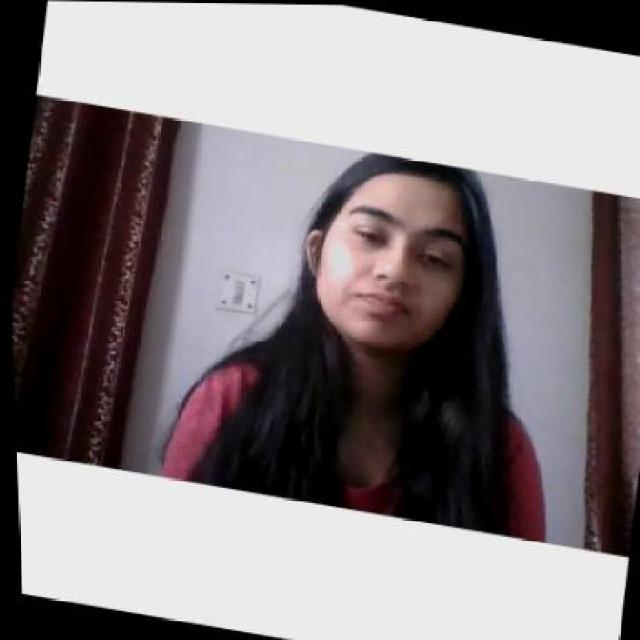attentif: (285, 141, 486, 359)
